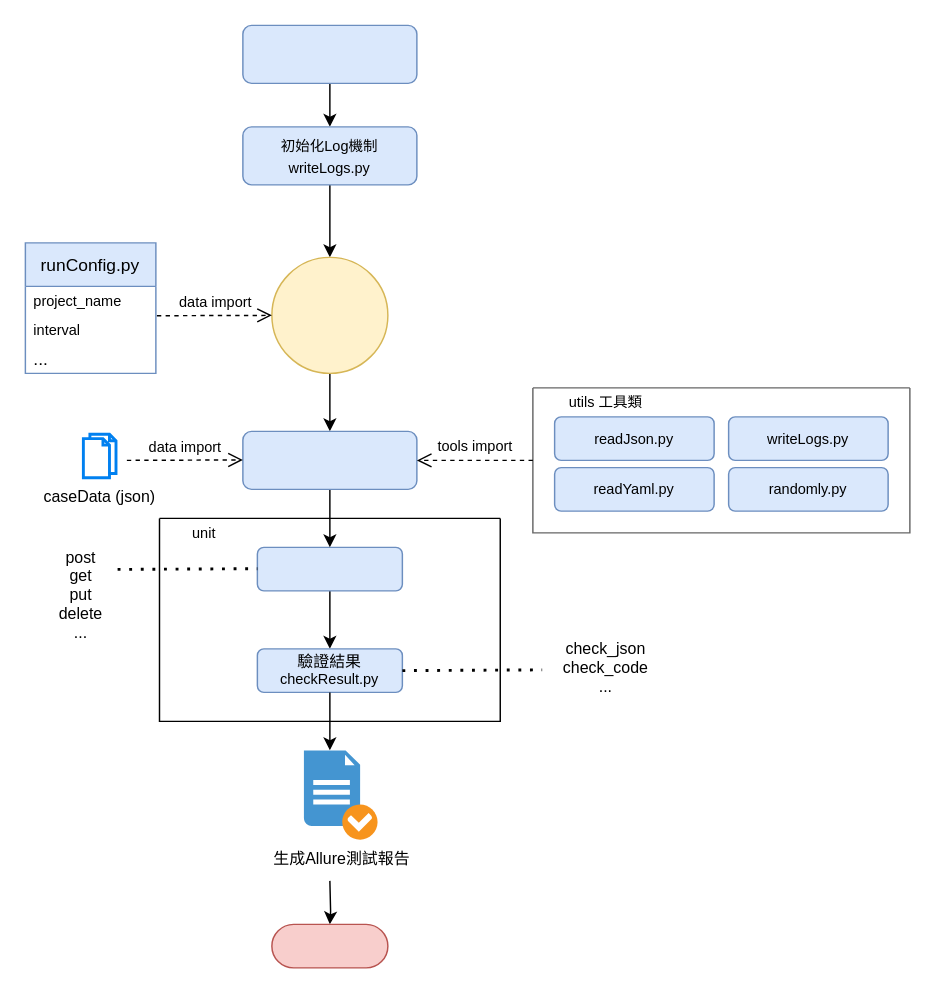
This 935x993 diagram has some shape labels left out. Each missing label, with the centre of its shape:
send request apiSend.py: [329,568]
startup.py: [329,53]
Test_template.py: [329,459]
Trigger Pytest: [329,314]
結束: [329,945]
